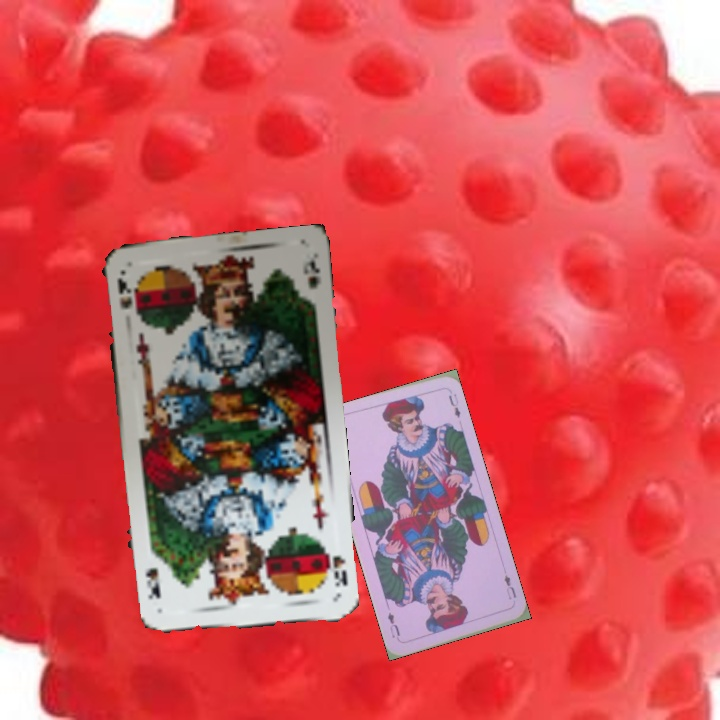EU: (500, 571, 519, 602)
SK: (321, 539, 350, 590), (113, 274, 141, 318)
